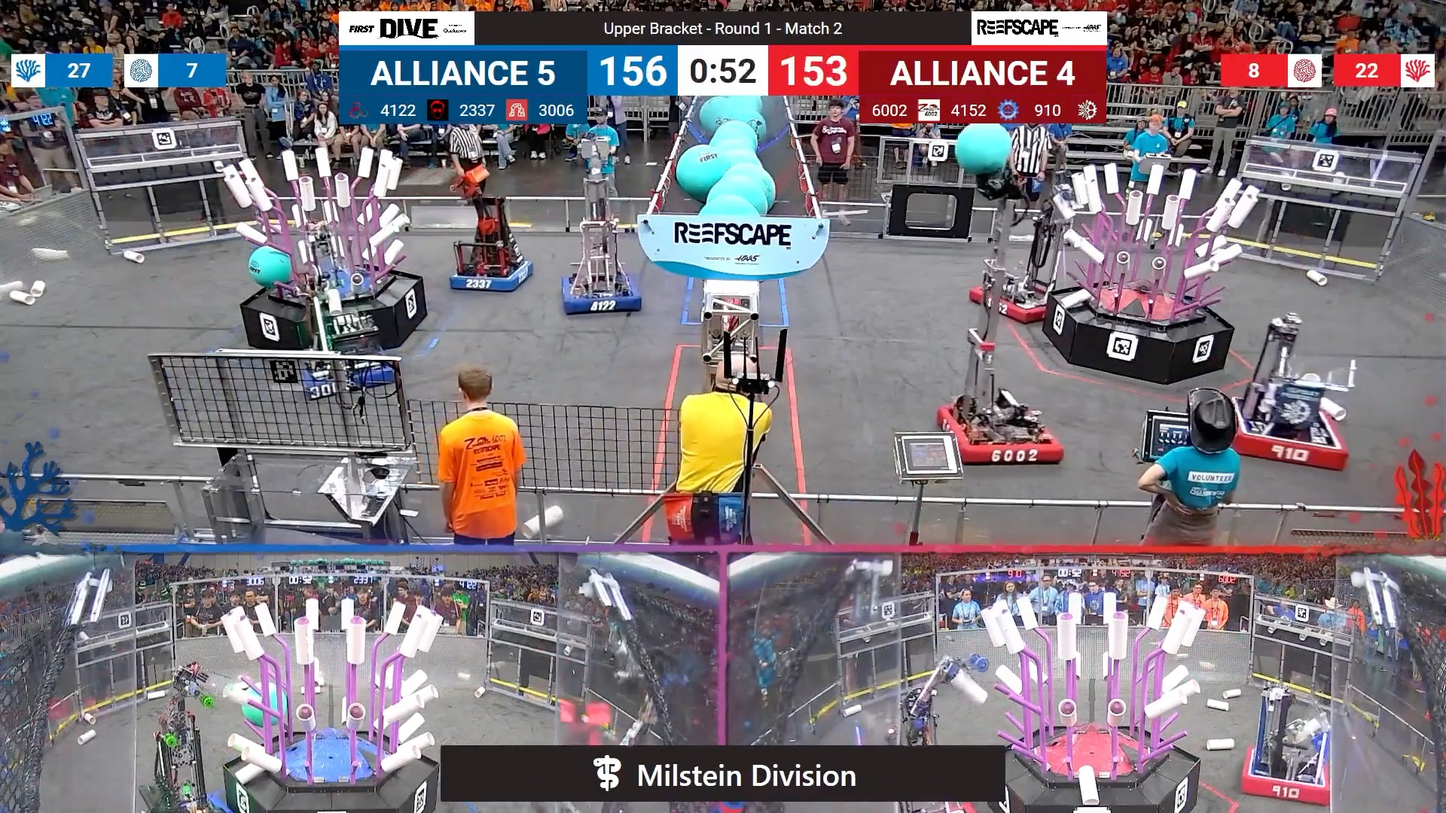bumpers: (929, 400, 1069, 476), (1228, 394, 1354, 473), (1231, 738, 1338, 808), (296, 346, 404, 395), (964, 279, 1064, 327), (557, 269, 646, 319), (441, 254, 538, 297)
